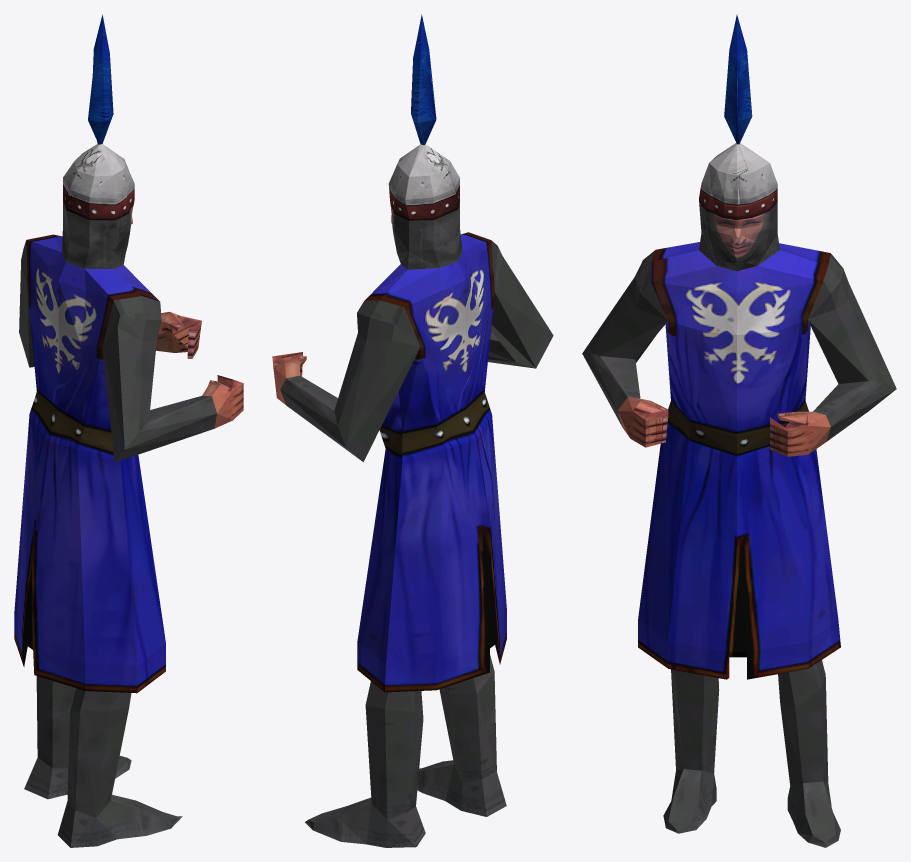
Rendered from guard.glb.
The picture shows the model from 3 angles, left to right: view 1: azimuth 30°, elevation 25°; view 2: azimuth 150°, elevation 25°; view 3: azimuth 270°, elevation 25°; orthographic projection.
Visible parts, largest first — view 1: guard; view 2: guard; view 3: guard.
Part boxes in pixels (<box>): guard: <box>14,14,243,847</box>; guard: <box>272,14,553,847</box>; guard: <box>582,15,896,847</box>.
Bounding box in the file's own units: 23.22 × 89.62 × 31.89.
1 material, 1 textured.
